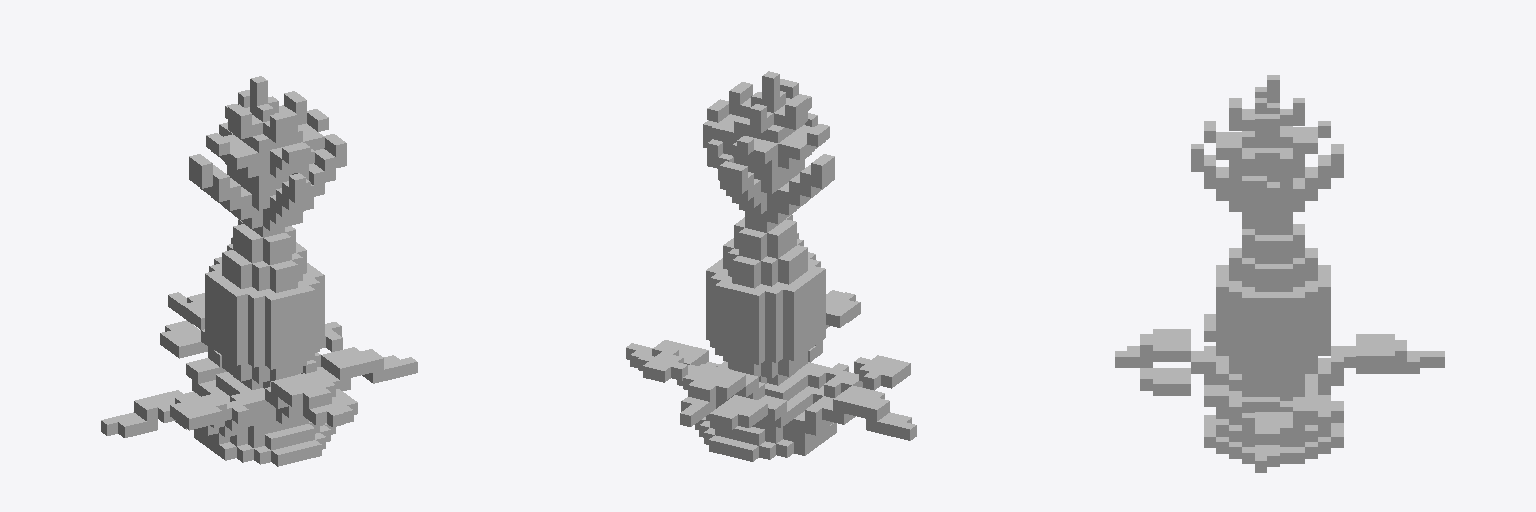
File: 0_0 abacx.obj
3 views of the same model, side by side, from view 1: azimuth 30°, elevation 25°; view 2: azimuth 150°, elevation 25°; view 3: azimuth 270°, elevation 25° (orthographic).
Parts seen in each view (by area): view 1: object 1; view 2: object 1; view 3: object 1.
Part boxes in pixels (x1,y1,x2,y2): object 1: (101, 76, 417, 466); object 1: (626, 71, 916, 461); object 1: (1115, 75, 1444, 472).
Size of the model in its own units: 2.7 by 3.1 by 2.6.